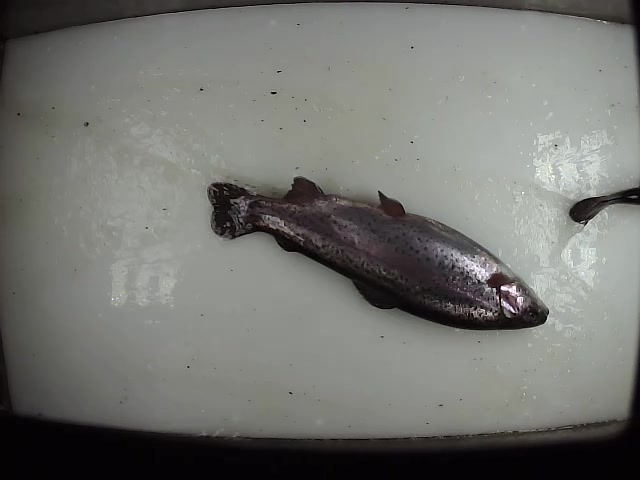fish: (205, 174, 552, 335)
